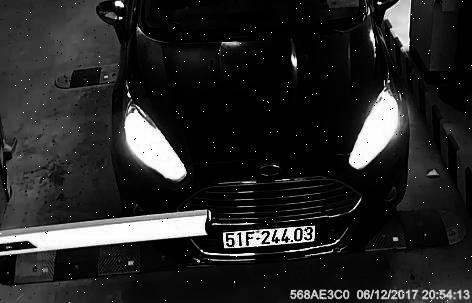License-plate: (219, 220, 329, 254)
